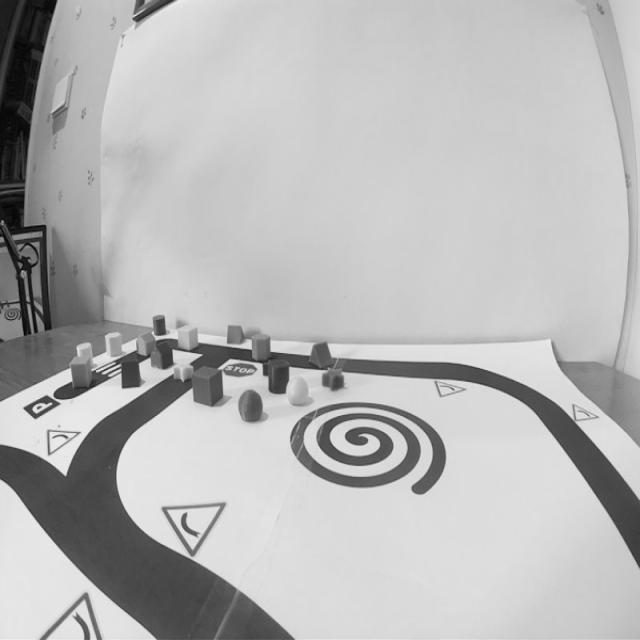ball: (282, 370, 310, 410), (237, 388, 265, 427)
cube: (189, 362, 227, 410), (68, 352, 94, 390), (175, 321, 201, 355)
cylinder: (266, 358, 294, 398), (151, 311, 168, 338)
hexagon: (249, 327, 273, 365), (102, 329, 126, 361)
home: (148, 337, 174, 372), (135, 328, 158, 360)
nest: (285, 394, 450, 506)
star: (317, 362, 350, 393), (172, 356, 197, 385)
triangle: (307, 340, 335, 372), (119, 357, 144, 392), (224, 320, 245, 348)
